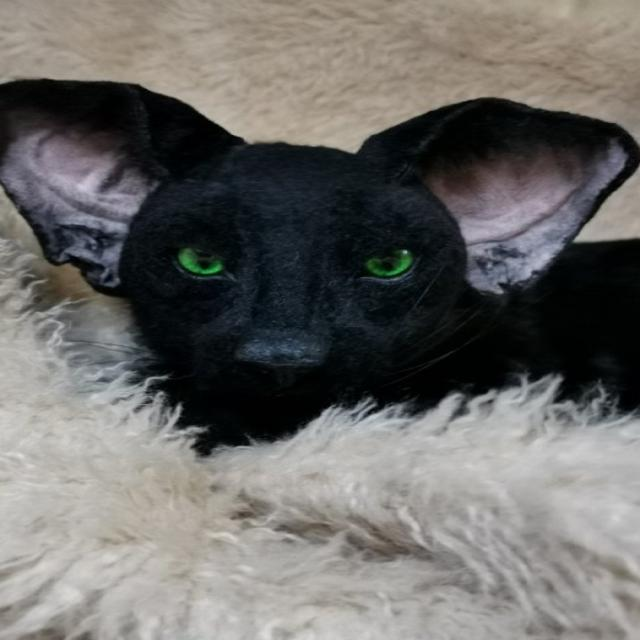Oriental: (0, 71, 640, 461)
